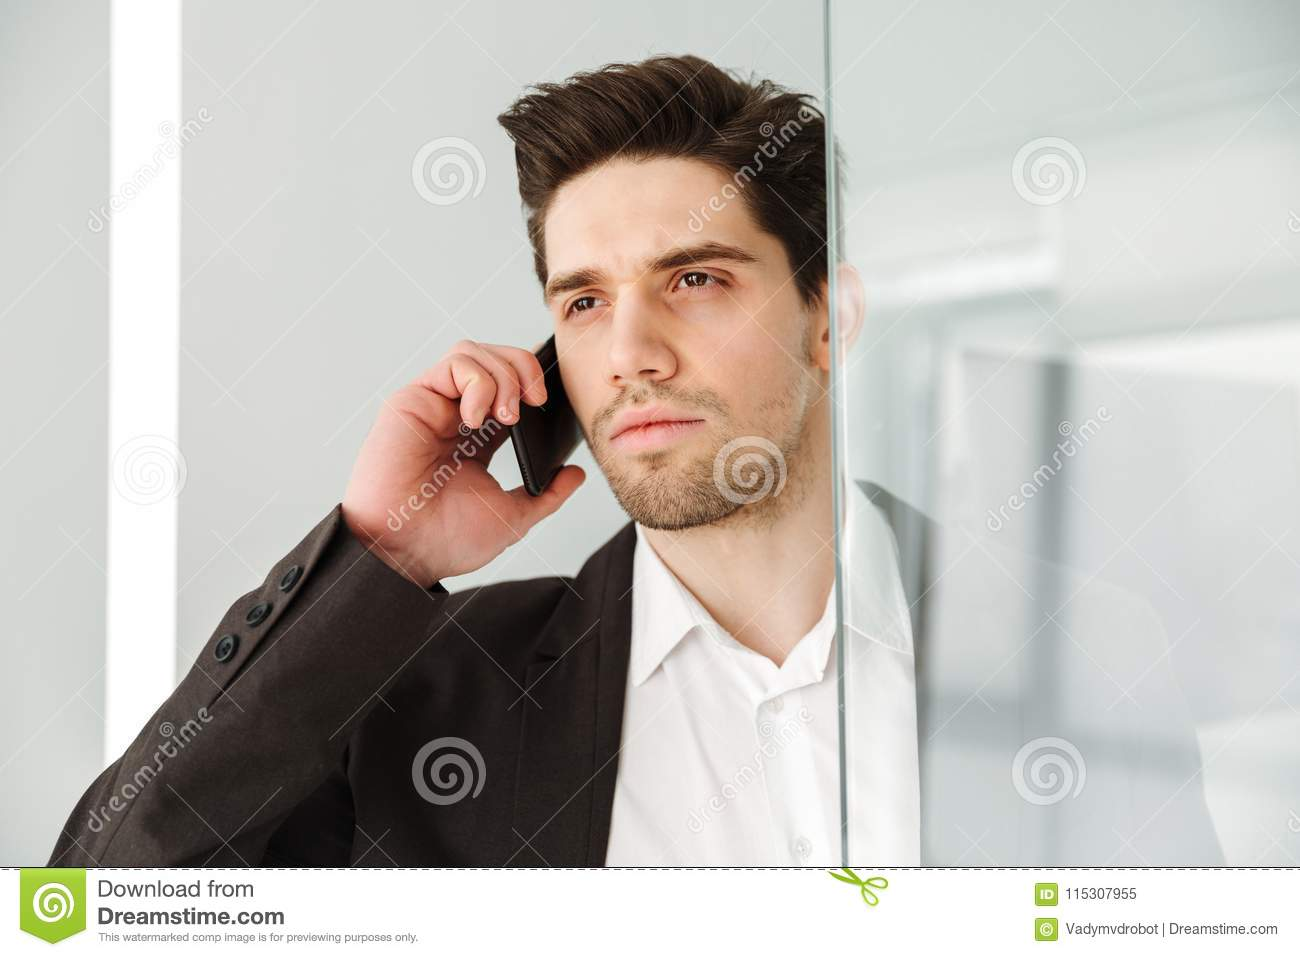phone: (503, 331, 585, 500)
talk: (353, 230, 768, 573)
